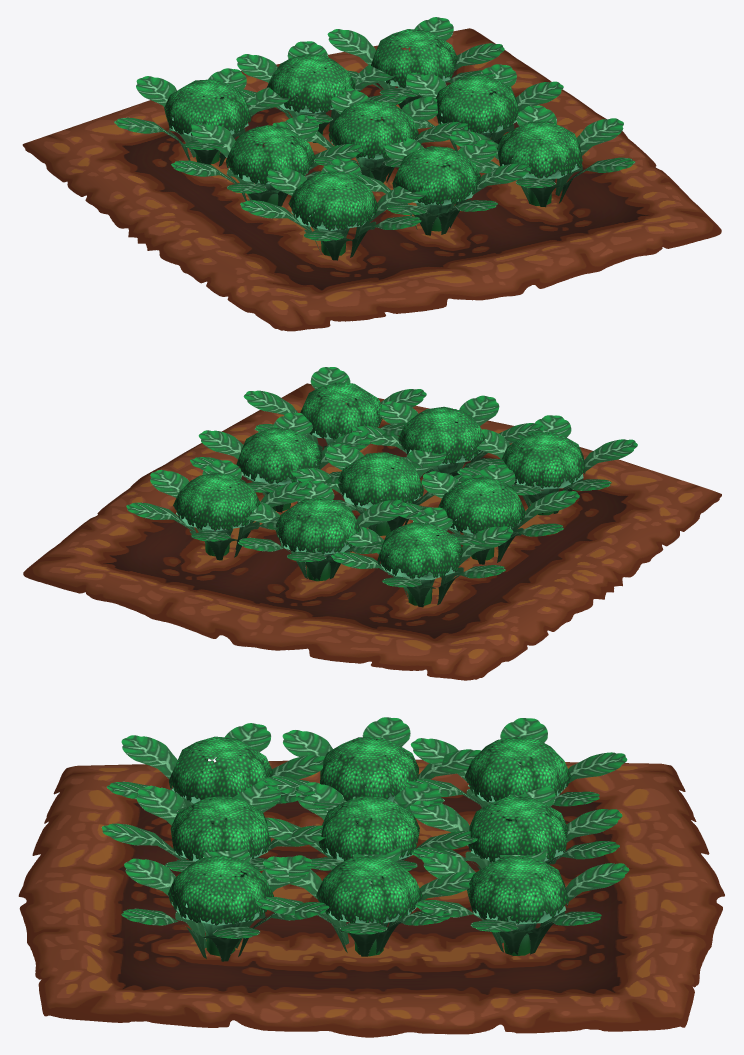
File: Brocolli_Field_Lv3.FBX
3 renders of one model, top to bottom at view 1: azimuth 30°, elevation 25°; view 2: azimuth 150°, elevation 25°; view 3: azimuth 270°, elevation 25°, orthographic. The views are drawn at different scales.
Parts seen in each view (by area): view 1: Brocolli_Field_Lv3; view 2: Brocolli_Field_Lv3; view 3: Brocolli_Field_Lv3.
Part boxes in pixels (left/top/right/bottom): Brocolli_Field_Lv3: left=22, top=17, right=721, bottom=331; Brocolli_Field_Lv3: left=23, top=367, right=721, bottom=680; Brocolli_Field_Lv3: left=18, top=717, right=724, bottom=1037.
Size of the model in its own units: 274 by 42.62 by 296.
